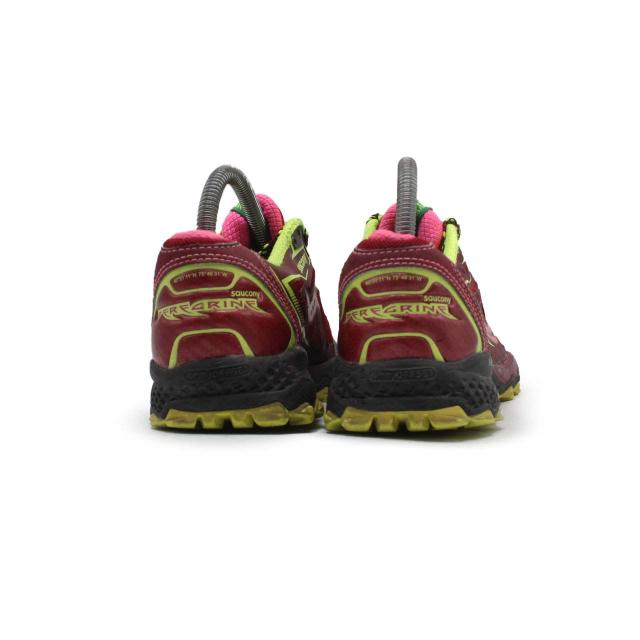heel: (153, 236, 294, 361), (337, 236, 476, 357)
midsole: (150, 357, 327, 438), (330, 357, 496, 434)
